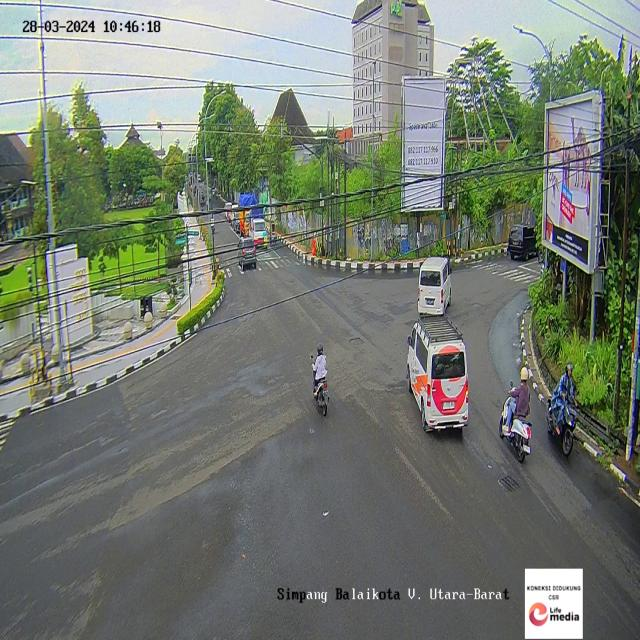bus: (408, 319, 471, 434), (417, 257, 451, 315)
car: (507, 224, 538, 261), (236, 237, 256, 273)
motorcycle: (502, 367, 532, 463), (549, 364, 578, 458), (310, 341, 332, 420)
truck: (238, 194, 261, 236), (249, 216, 267, 249)
